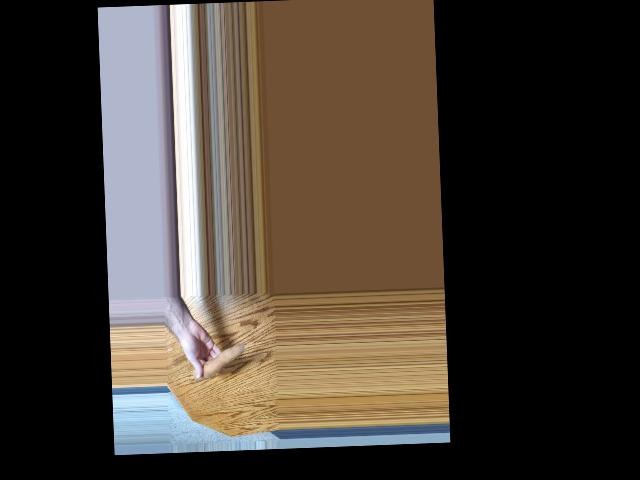sweet_potato: (190, 343, 245, 381)
